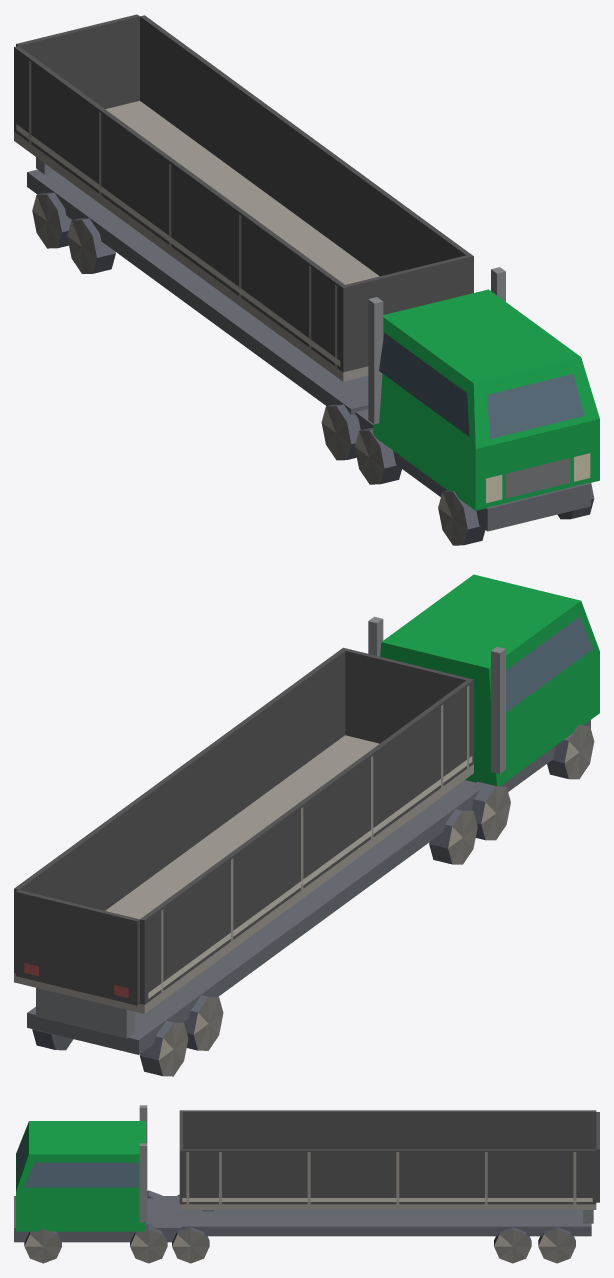
The model's file is grain_hauler_green.glb.
3 views of the same model, one above another, from view 1: azimuth 30°, elevation 25°; view 2: azimuth 150°, elevation 25°; view 3: azimuth 270°, elevation 25° (orthographic). The views are drawn at different scales.
Visible parts, largest first — view 1: DumpBed_Visual, Tractor, Trailer_Hitch, Tailgate_Pivot, Tire_3_L, Tire_1_L, Tire_0_L, Tire_2_L, Tire_4_L; view 2: DumpBed_Visual, Tractor, Trailer_Hitch, Tailgate_Pivot, Tire_4_L, Tire_2_L, Tire_1_L, Tire_0_L, Tire_3_L; view 3: DumpBed_Visual, Tractor, Trailer_Hitch, Tire_1_R, Tire_2_R, Tire_3_R, Tire_4_R, Tire_0_R, Tailgate_Pivot.
Boxes of the visible parts, x1,y1,x2,y2 form: DumpBed_Visual: (14,15,473,381); Tractor: (355,267,599,531); Trailer_Hitch: (27,157,368,415); Tailgate_Pivot: (16,14,139,108); Tire_3_L: (67,218,115,273); Tire_1_L: (354,428,401,484); Tire_0_L: (438,490,485,545); Tire_2_L: (321,404,360,460); Tire_4_L: (32,192,71,248); DumpBed_Visual: (14,647,473,1014); Tractor: (368,574,599,810); Trailer_Hitch: (27,797,462,1054); Tailgate_Pivot: (16,890,139,1005); Tire_4_L: (139,1020,188,1076); Tire_2_L: (429,808,477,864); Tire_1_L: (472,781,510,840); Tire_0_L: (547,724,594,779); Tire_3_L: (183,995,223,1050); DumpBed_Visual: (179,1110,596,1209); Tractor: (14,1105,181,1242); Trailer_Hitch: (181,1210,593,1236); Tire_1_R: (130,1223,167,1263); Tire_2_R: (172,1227,209,1263); Tire_3_R: (494,1227,531,1263); Tire_4_R: (538,1227,575,1263); Tire_0_R: (24,1229,61,1263); Tailgate_Pivot: (596,1112,599,1202).
Size of the model in its own units: 2.51 by 3.39 by 15.21.
